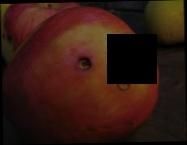rotten apple: (2, 1, 161, 140)
